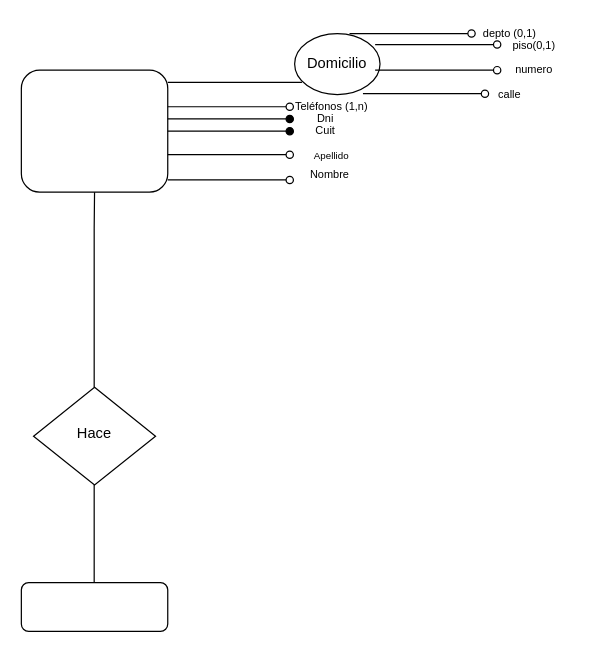
The diagram is 592 pixels wide and 653 high, and some of its shapes have lost their labels. Here are the shapes that lost their labels. From the top down, the centre of each, then its label:
At [94,130]: "Persona".
At [94,606]: "Actividad".
